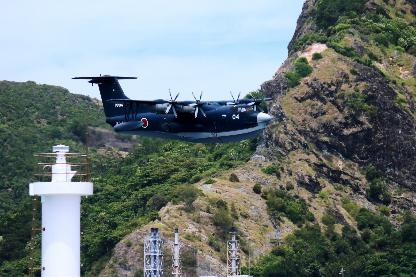Tu95: (70, 73, 272, 142)
